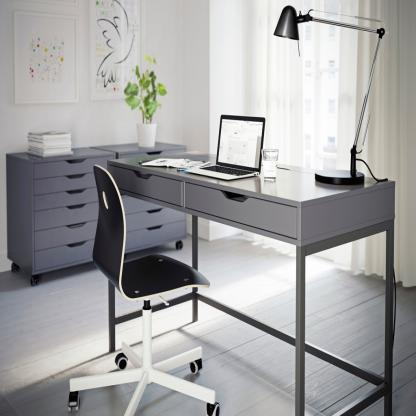Chair: (67, 163, 222, 416)
